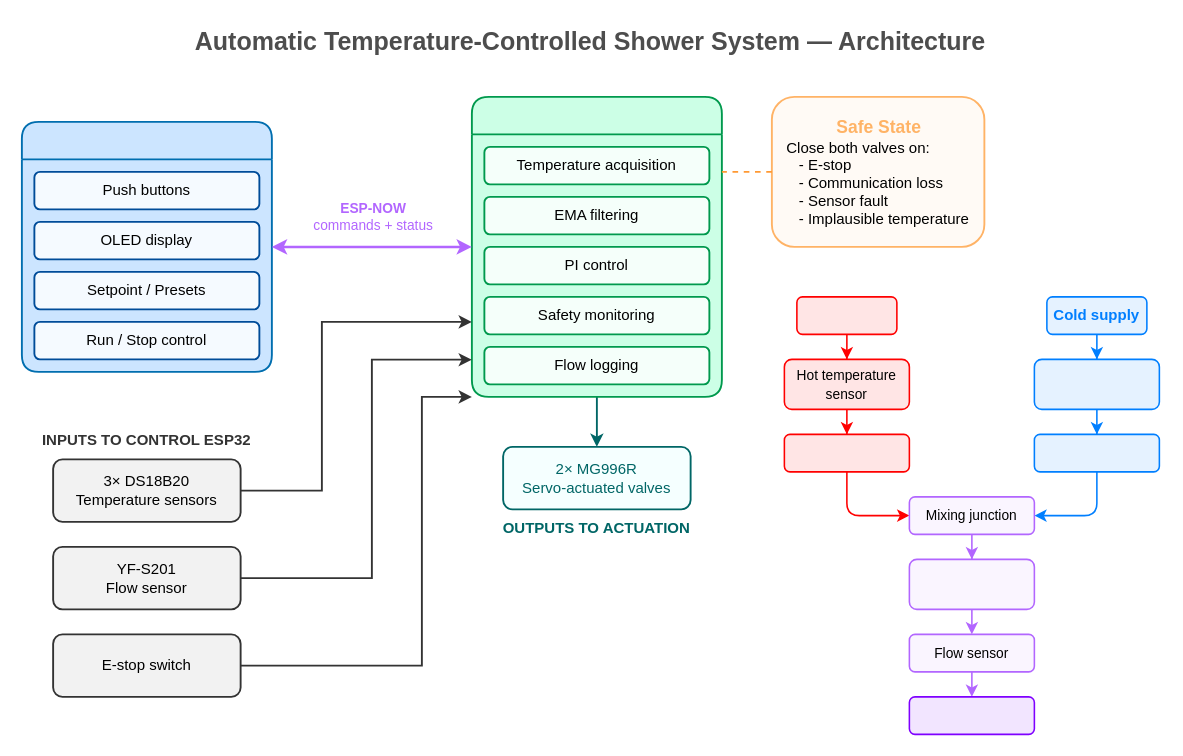
Image size: 1183x756. Some labels were removed from this diagram. Each missing label, with the box of its shape:
Cold servo valve: (1033, 433, 1160, 472)
Cold temperature sensor: (1033, 358, 1160, 410)
Control ESP32: (470, 95, 722, 397)
Hot servo valve: (783, 433, 910, 472)
Hot supply: (796, 296, 897, 335)
Mixed outlet: (908, 696, 1035, 735)
Outlet temperature sensor: (908, 558, 1035, 610)
UI ESP32: (20, 120, 272, 372)
